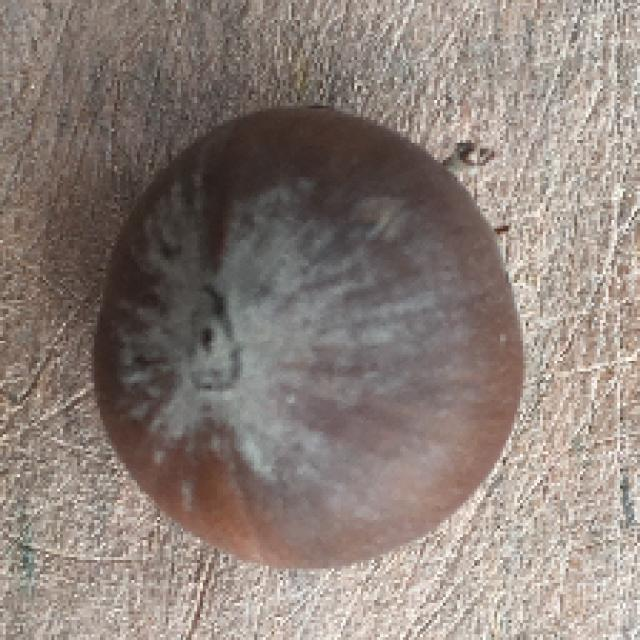damagedHazelnut: (90, 98, 544, 581)
